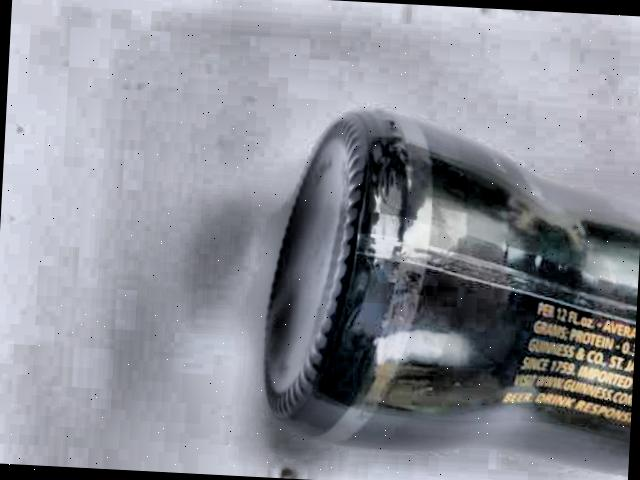Bottles: (234, 78, 640, 455)
